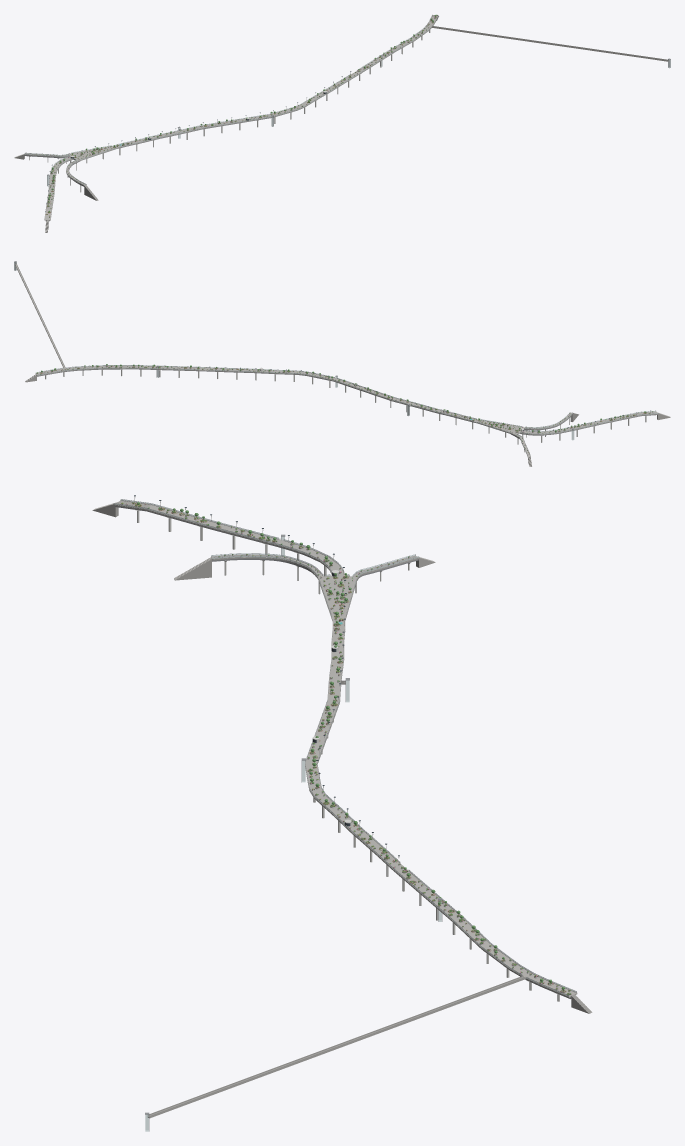
Rendered from seoullo_e.glb.
3 views of the same model, one above another, from view 1: azimuth 30°, elevation 25°; view 2: azimuth 150°, elevation 25°; view 3: azimuth 270°, elevation 25° (orthographic). The views are drawn at different scales.
Parts seen in each view (by area): view 1: SL_Deck.001, SL_Parapet_Glass.001, SL_Curb_Upstand.001, SL_Elevator_Bridges.001, SL_Plants.001, SL_Planters.001, SL_Piers.001; view 2: SL_Deck.001, SL_Parapet_Glass.001, SL_Curb_Upstand.001, SL_Girders.001, SL_Plants.001, SL_Piers.001, SL_Planters.001; view 3: SL_Deck.001, SL_Parapet_Glass.001, SL_Elevator_Bridges.001, SL_Plants.001, SL_Curb_Upstand.001, SL_Planters.001, SL_Piers.001, SL_End_Stairs.001.
Boxes of the visible parts, bbox=[...] form: SL_Deck.001: bbox=[24, 15, 438, 220]; SL_Parapet_Glass.001: bbox=[24, 15, 438, 184]; SL_Curb_Upstand.001: bbox=[24, 15, 438, 219]; SL_Elevator_Bridges.001: bbox=[49, 26, 668, 176]; SL_Plants.001: bbox=[36, 14, 437, 214]; SL_Planters.001: bbox=[35, 15, 437, 217]; SL_Piers.001: bbox=[29, 30, 430, 192]; SL_Deck.001: bbox=[35, 366, 658, 457]; SL_Parapet_Glass.001: bbox=[36, 365, 658, 452]; SL_Curb_Upstand.001: bbox=[38, 365, 658, 456]; SL_Girders.001: bbox=[37, 369, 657, 438]; SL_Plants.001: bbox=[37, 364, 652, 453]; SL_Piers.001: bbox=[45, 369, 647, 459]; SL_Planters.001: bbox=[36, 366, 653, 454]; SL_Deck.001: bbox=[113, 500, 577, 997]; SL_Parapet_Glass.001: bbox=[114, 499, 576, 996]; SL_Elevator_Bridges.001: bbox=[148, 538, 529, 1118]; SL_Plants.001: bbox=[122, 502, 570, 994]; SL_Curb_Upstand.001: bbox=[113, 500, 576, 996]; SL_Planters.001: bbox=[121, 503, 571, 995]; SL_Piers.001: bbox=[134, 509, 559, 1001]; SL_End_Stairs.001: bbox=[92, 502, 592, 1013].
Bounding box in the file's own units: 1157 × 22.12 × 393.
